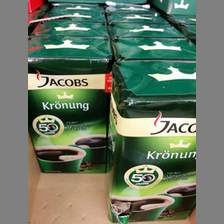coffee: (103, 59, 196, 224), (29, 36, 113, 174)
